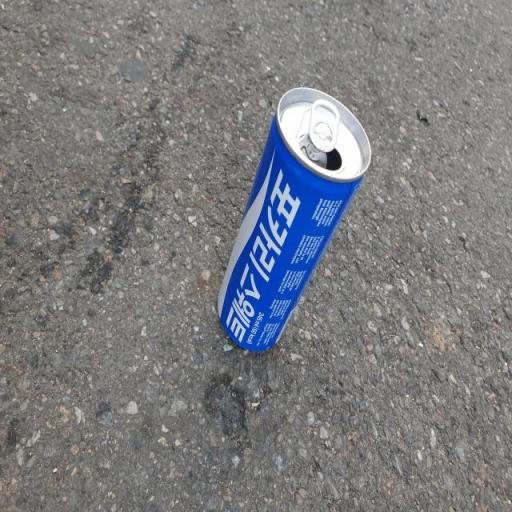metal: (194, 75, 376, 378)
